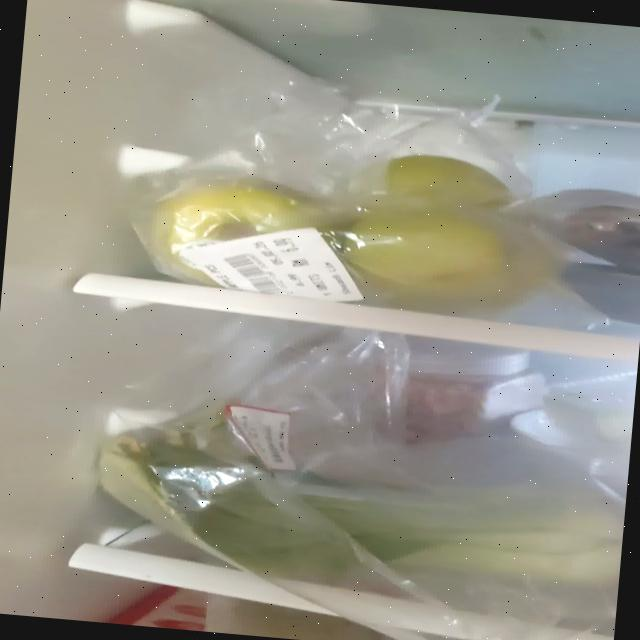apple: (143, 130, 570, 326)
pakchoy: (86, 421, 628, 595)
